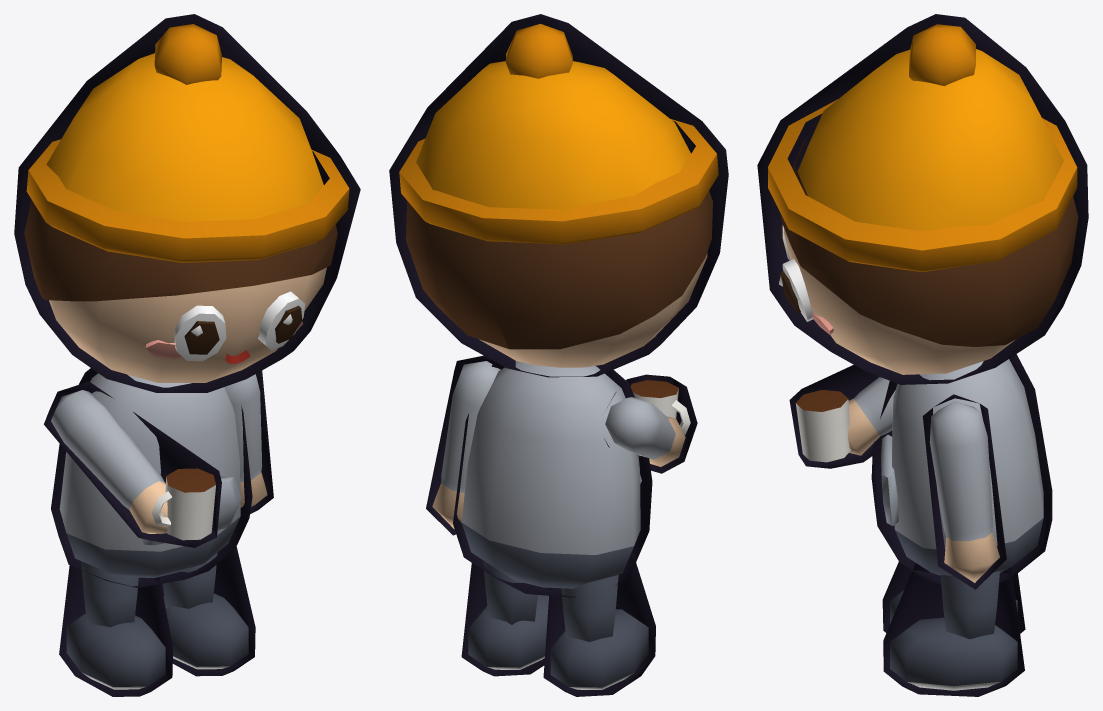
File: figur_muetze.glb
The picture shows the model from 3 angles, left to right: view 1: azimuth 30°, elevation 25°; view 2: azimuth 150°, elevation 25°; view 3: azimuth 270°, elevation 25°; orthographic projection. The views are drawn at different scales.
Visible parts, largest first — view 1: kopf, koerper, arm_r, bein_r, bein_l, arm_l; view 2: kopf, koerper, bein_r, bein_l, arm_r, arm_l; view 3: kopf, koerper, bein_l, arm_l, arm_r, bein_r.
Boxes of the visible parts, <box> form: kopf: <box>14,14,360,392</box>; koerper: <box>51,368,252,587</box>; arm_r: <box>44,381,221,547</box>; bein_r: <box>59,549,172,696</box>; bein_l: <box>161,533,255,676</box>; arm_l: <box>224,370,273,513</box>; kopf: <box>389,14,728,377</box>; koerper: <box>453,356,652,597</box>; bein_r: <box>543,551,655,696</box>; bein_l: <box>461,560,548,676</box>; arm_r: <box>604,374,697,473</box>; arm_l: <box>426,355,500,535</box>; kopf: <box>757,14,1088,384</box>; koerper: <box>871,354,1052,584</box>; bein_l: <box>883,563,1024,696</box>; arm_l: <box>922,394,1006,589</box>; arm_r: <box>789,365,895,468</box>; bein_r: <box>882,562,1025,633</box>.
Size of the model in its own units: 0.6557 by 1.35 by 0.6135.
